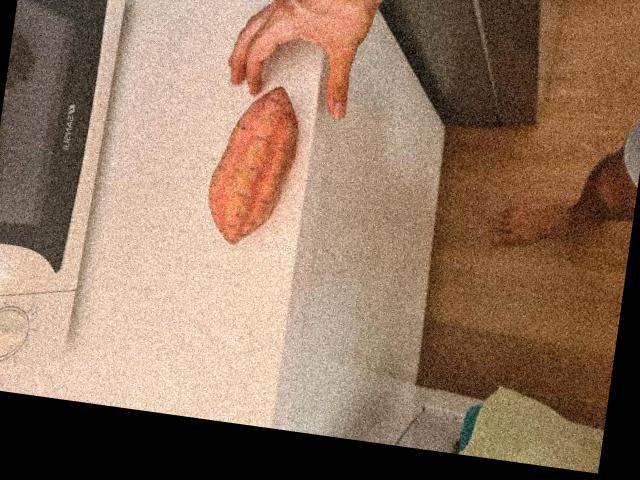sweet_potato: (198, 81, 306, 257)
